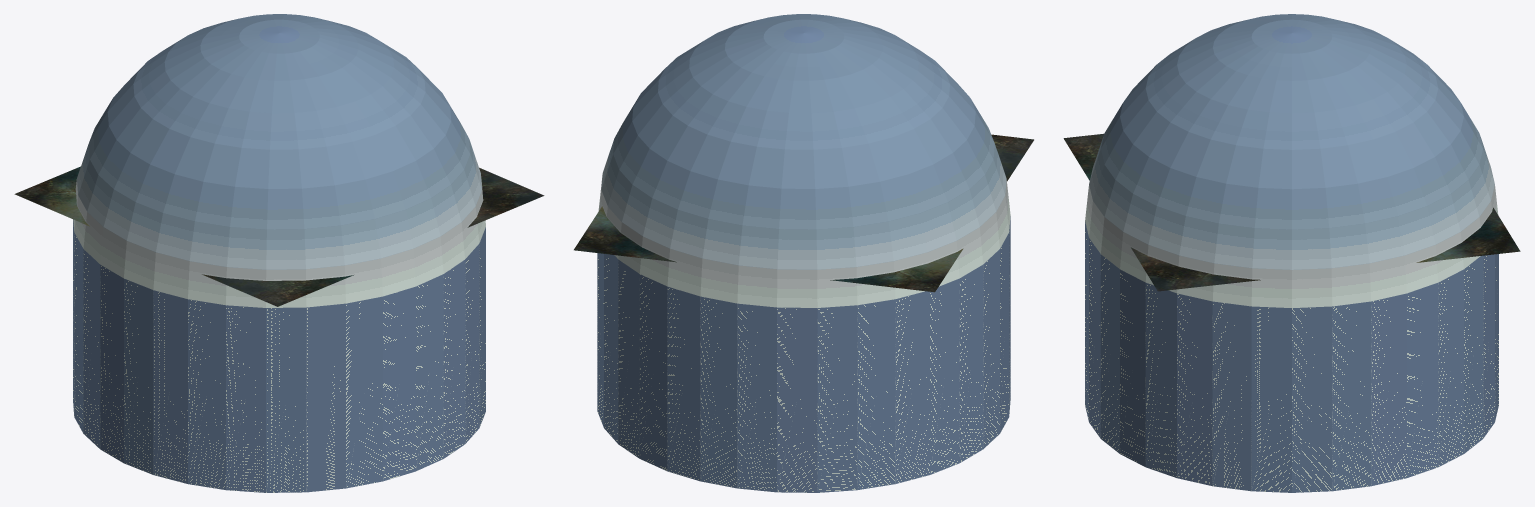
3 views of the same model, side by side, from view 1: azimuth 30°, elevation 25°; view 2: azimuth 150°, elevation 25°; view 3: azimuth 270°, elevation 25° (orthographic).
Visible parts, largest first — view 1: Sky02, R_WaterPlane; view 2: Sky02, R_WaterPlane; view 3: Sky02, R_WaterPlane.
Part boxes in pixels (x1,y1,x2,y2): Sky02: [73, 14, 485, 492]; R_WaterPlane: [14, 166, 544, 306]; Sky02: [597, 14, 1010, 492]; R_WaterPlane: [574, 134, 1033, 292]; Sky02: [1085, 14, 1498, 492]; R_WaterPlane: [1063, 133, 1520, 291].
Size of the model in its own units: 122 by 110 by 122.
